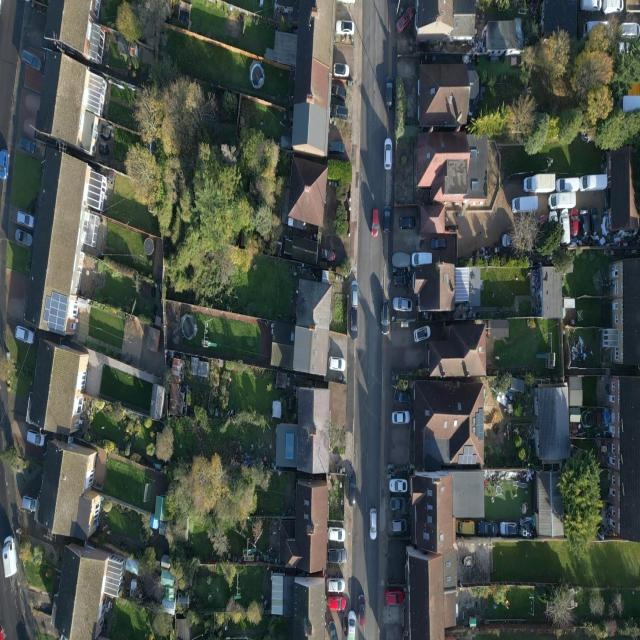Car: (396, 7, 414, 34), (21, 49, 42, 72), (15, 325, 34, 345), (477, 520, 498, 538), (18, 136, 36, 155), (392, 296, 413, 312), (384, 589, 402, 607), (16, 210, 34, 228), (15, 230, 33, 248), (26, 430, 45, 447), (328, 595, 347, 612), (580, 206, 590, 238), (381, 301, 390, 336), (414, 325, 431, 343), (335, 20, 354, 36), (328, 548, 347, 564), (590, 208, 600, 237), (500, 521, 518, 537), (22, 496, 38, 514), (327, 578, 345, 594), (331, 84, 347, 102), (389, 479, 408, 494), (392, 411, 411, 426), (570, 210, 580, 238), (0, 148, 9, 179), (328, 527, 345, 543), (331, 104, 348, 120), (358, 594, 366, 626), (348, 474, 356, 506), (369, 508, 377, 540), (350, 308, 358, 340), (384, 138, 392, 170), (386, 76, 394, 108), (390, 496, 407, 511), (329, 357, 346, 372), (393, 391, 411, 405), (370, 209, 379, 237), (334, 63, 349, 79), (321, 247, 336, 262), (391, 519, 407, 533), (393, 275, 411, 287), (384, 205, 392, 232), (400, 217, 416, 230), (329, 142, 345, 155), (351, 280, 358, 308), (431, 237, 446, 250), (328, 621, 338, 640)
Truck: (522, 172, 556, 193)
Van: (2, 536, 18, 578), (578, 174, 608, 191), (511, 196, 538, 214), (547, 193, 576, 209), (559, 208, 570, 244), (555, 177, 579, 193), (455, 519, 475, 535), (412, 252, 432, 268), (348, 610, 356, 640)
